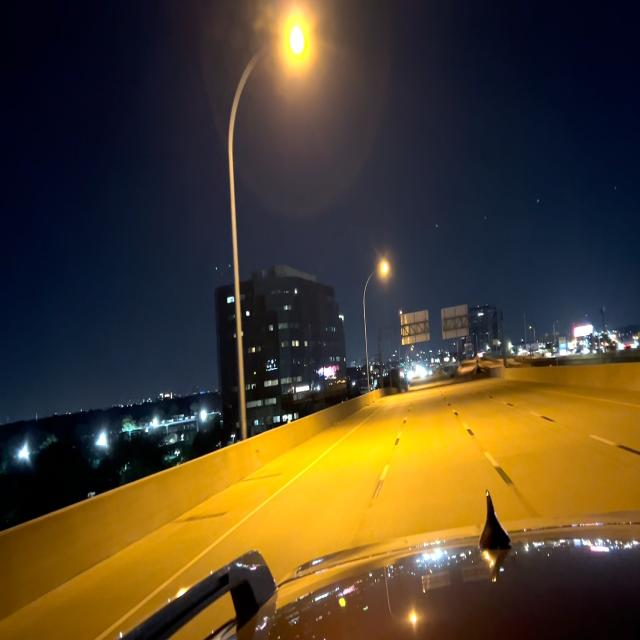back-of-sign: (400, 309, 431, 347), (442, 304, 469, 339)
